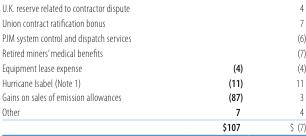table: (1, 1, 302, 133)
table column: (1, 1, 175, 133), (175, 1, 264, 133), (264, 1, 302, 133)
table column header: (1, 1, 302, 74)
table row: (1, 1, 302, 74), (1, 74, 302, 89), (1, 89, 302, 104), (1, 104, 302, 119), (1, 119, 302, 133)
